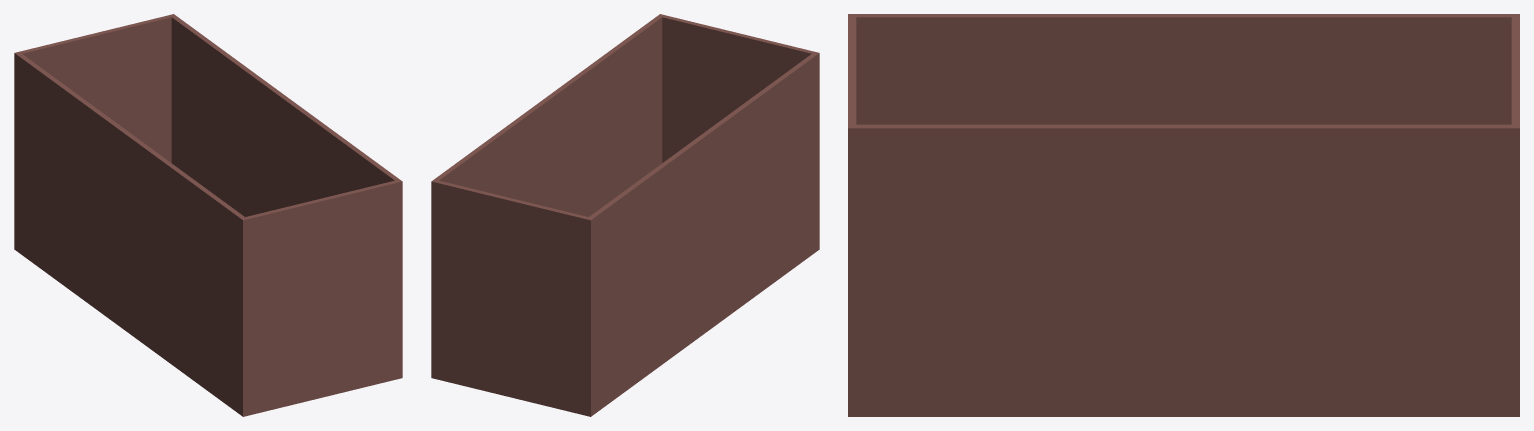
The model's file is Cardboardbox.fbx.
The picture shows the model from 3 angles, left to right: view 1: azimuth 30°, elevation 25°; view 2: azimuth 150°, elevation 25°; view 3: azimuth 270°, elevation 25°; orthographic projection. The views are drawn at different scales.
Visible parts, largest first — view 1: Box; view 2: Box; view 3: Box.
Part boxes in pixels (x1,y1,x2,y2): Box: [14, 14, 402, 416]; Box: [431, 14, 819, 416]; Box: [848, 14, 1519, 416].
Size of the model in its own units: 36.08 by 42.5 by 89.65.
